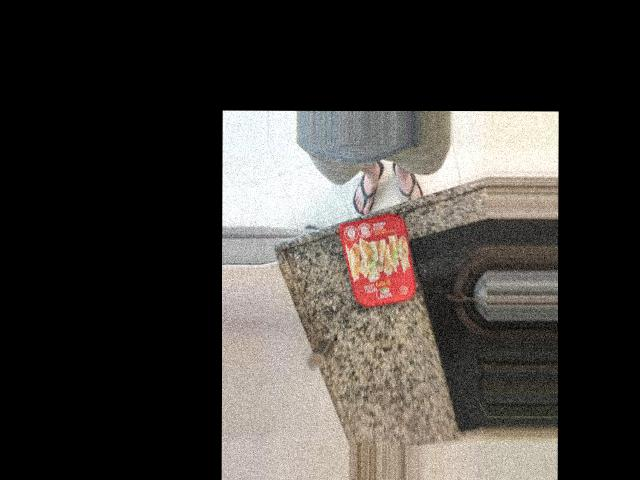cheese: (332, 286, 422, 395)
